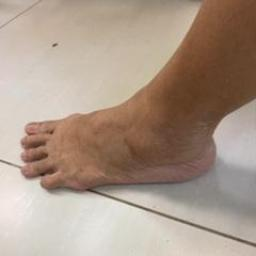Lateral View -Left Foot-: (6, 82, 234, 207)
